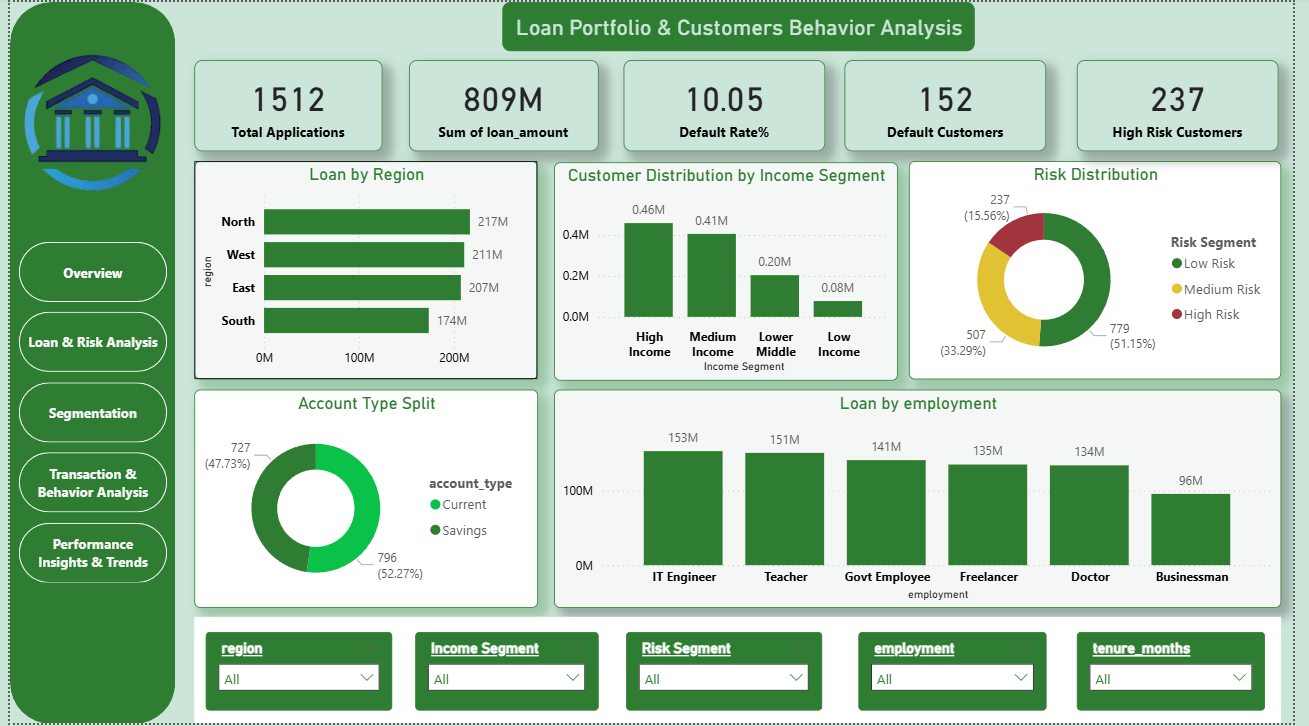

What the dashboard file says about the page in this screenshot:
{"tool":"powerbi","page":{"name":"Overview","canvas":[1280,720],"ordinal":0},"visuals":[{"type":"shape","box":[0,0,165,720.5],"z":0},{"type":"shape","title":"Loan Portfolio & Customers Behavior Analysis","box":[491.3,0,471.1,49.1],"z":1000},{"type":"pageNavigator","box":[8.8,239.3,148.6,341.4],"z":2000},{"type":"image","box":[0,11.3,165,219.2],"z":3000},{"type":"card","fields":{"Values":["CountNonNull(banking_loan_db customers.customer_id)"]},"box":[183.9,57.9,187.7,90.7],"z":4000},{"type":"card","fields":{"Values":["Sum(banking_loan_db cust_trans_loan.loan_amount)"]},"box":[398.1,57.9,189,90.7],"z":5000},{"type":"card","fields":{"Values":["Sum(banking_loan_db default_rate.default_percentage)"]},"box":[612.2,57.9,201.5,90.7],"z":6000},{"type":"card","fields":{"Values":["banking_loan_db loans.Default Customers"]},"box":[832.6,57.9,201.5,90.7],"z":7000},{"type":"barChart","title":"Loan by Region","fields":{"Category":["banking_loan_db cust_trans_loan.region"],"Y":["Sum(banking_loan_db cust_trans_loan.loan_amount)"]},"box":[183.9,158.7,342.6,217.9],"z":8000},{"type":"columnChart","title":"Customer Distribution by Income Segment","fields":{"Category":["banking_loan_db cust_trans_loan.Income Segment"],"Y":["Sum(banking_loan_db cust_trans_loan.customer_id)"]},"box":[542.9,160,342.6,217.9],"z":9000},{"type":"donutChart","title":" Risk Distribution","fields":{"Category":["banking_loan_db cust_trans_loan.Risk Segment"],"Y":["CountNonNull(banking_loan_db cust_trans_loan.customer_id)"]},"box":[896.9,158.7,371.6,217.9],"z":10000},{"type":"columnChart","title":"Loan by employment","fields":{"Category":["banking_loan_db cust_trans_loan.employment"],"Y":["Sum(banking_loan_db cust_trans_loan.loan_amount)"]},"box":[542.9,386.7,725.6,217.9],"z":11000},{"type":"donutChart","title":"Account Type Split","fields":{"Category":["banking_loan_db cust_trans_loan.account_type"],"Y":["CountNonNull(banking_loan_db cust_trans_loan.customer_id)"]},"box":[183.9,386.7,342.6,217.9],"z":12000},{"type":"shape","box":[183.9,613.5,1084.6,107.1],"z":13000},{"type":"slicer","fields":{"Values":["banking_loan_db cust_trans_loan.region"]},"box":[195.2,628.6,186.4,78.1],"z":14000},{"type":"slicer","fields":{"Values":["banking_loan_db cust_trans_loan.Income Segment"]},"box":[404.4,628.6,182.7,78.1],"z":15000},{"type":"slicer","fields":{"Values":["banking_loan_db cust_trans_loan.Risk Segment"]},"box":[614.7,628.6,195.2,78.1],"z":16000},{"type":"slicer","fields":{"Values":["banking_loan_db cust_trans_loan.employment"]},"box":[846.5,628.6,187.7,78.1],"z":17000},{"type":"slicer","fields":{"Values":["banking_loan_db cust_trans_loan.tenure_months"]},"box":[1064.4,628.6,187.7,78.1],"z":18000},{"type":"card","fields":{"Values":["banking_loan_db cust_trans_loan.High Risk Customers"]},"box":[1064.4,57.9,201.5,90.7],"z":19000}]}

Visuals, with their boxes in screenshot pixels (x1, y1, x2, y2), scaled from the page's 1280x720 canvas onto the 1309x726 screenshot:
shape: <region>0, 0, 169, 725</region>
"Loan Portfolio & Customers Behavior Analysis" shape: <region>502, 0, 984, 50</region>
pageNavigator: <region>9, 241, 161, 586</region>
image: <region>0, 11, 169, 232</region>
card - CountNonNull(banking_loan_db customers.customer_id): <region>188, 58, 380, 150</region>
card - Sum(banking_loan_db cust_trans_loan.loan_amount): <region>407, 58, 600, 150</region>
card - Sum(banking_loan_db default_rate.default_percentage): <region>626, 58, 832, 150</region>
card - banking_loan_db loans.Default Customers: <region>851, 58, 1058, 150</region>
"Loan by Region" barChart: <region>188, 160, 538, 380</region>
"Customer Distribution by Income Segment" columnChart: <region>555, 161, 906, 381</region>
" Risk Distribution" donutChart: <region>917, 160, 1297, 380</region>
"Loan by employment" columnChart: <region>555, 390, 1297, 610</region>
"Account Type Split" donutChart: <region>188, 390, 538, 610</region>
shape: <region>188, 619, 1297, 725</region>
slicer - banking_loan_db cust_trans_loan.region: <region>200, 634, 390, 713</region>
slicer - banking_loan_db cust_trans_loan.Income Segment: <region>414, 634, 600, 713</region>
slicer - banking_loan_db cust_trans_loan.Risk Segment: <region>629, 634, 828, 713</region>
slicer - banking_loan_db cust_trans_loan.employment: <region>866, 634, 1058, 713</region>
slicer - banking_loan_db cust_trans_loan.tenure_months: <region>1089, 634, 1280, 713</region>
card - banking_loan_db cust_trans_loan.High Risk Customers: <region>1089, 58, 1295, 150</region>
